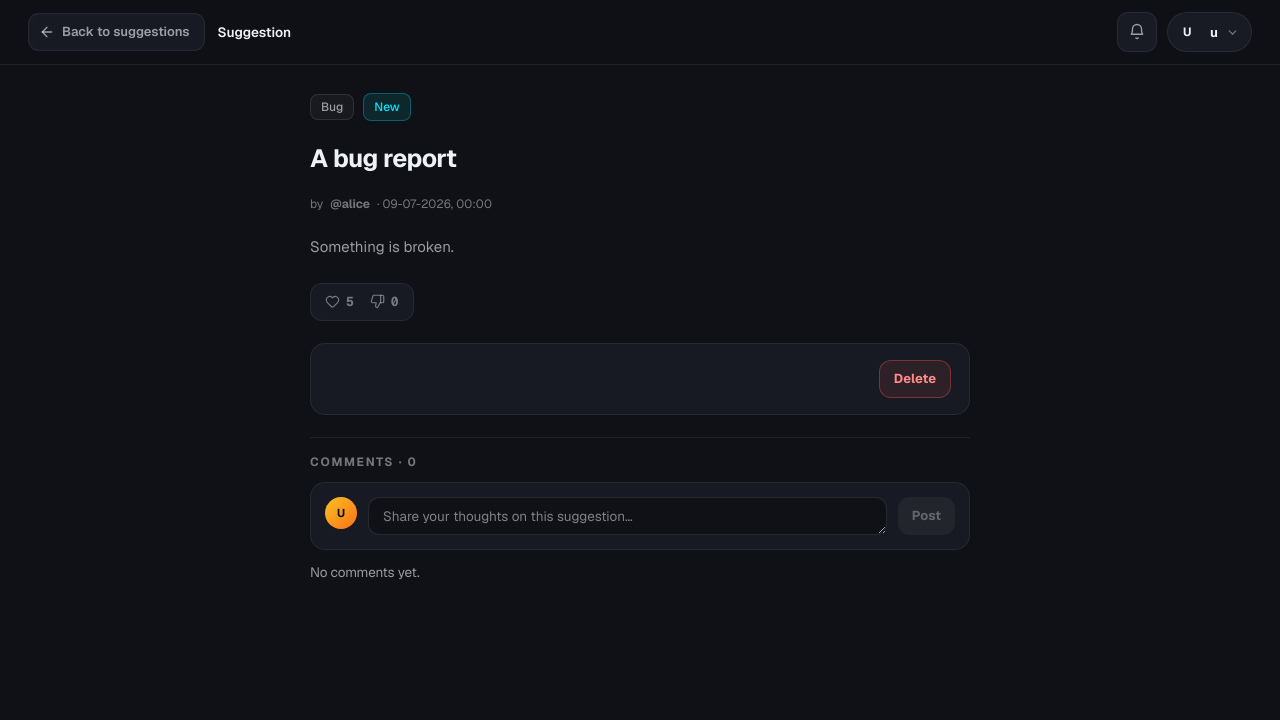
Scenario: FeedbackDetailScreen › abandons the delete when the confirm strip is cancelled
This screenshot has width=1280, height=720.
Click the button "Delete": (915, 378) [879, 360, 951, 398]
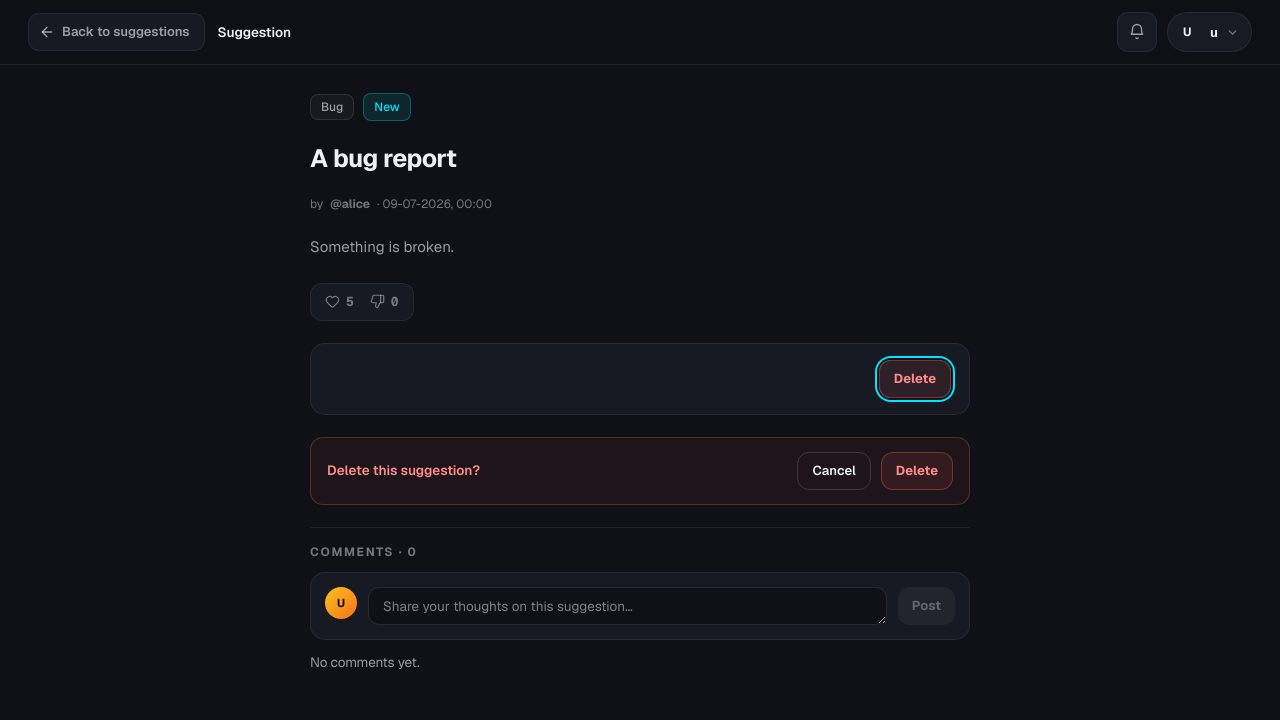
Click the button "Cancel": (834, 470) [798, 452, 871, 490]
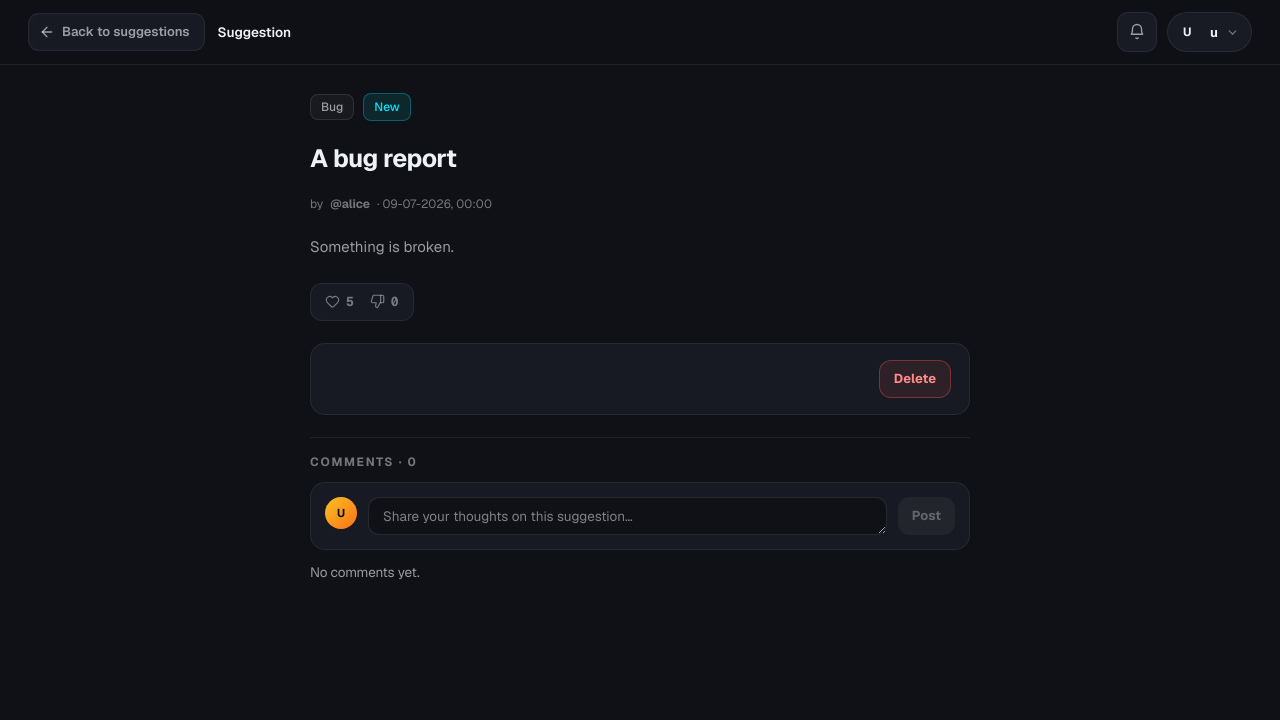
Expected: the text "Delete this suggestion?" is gone
